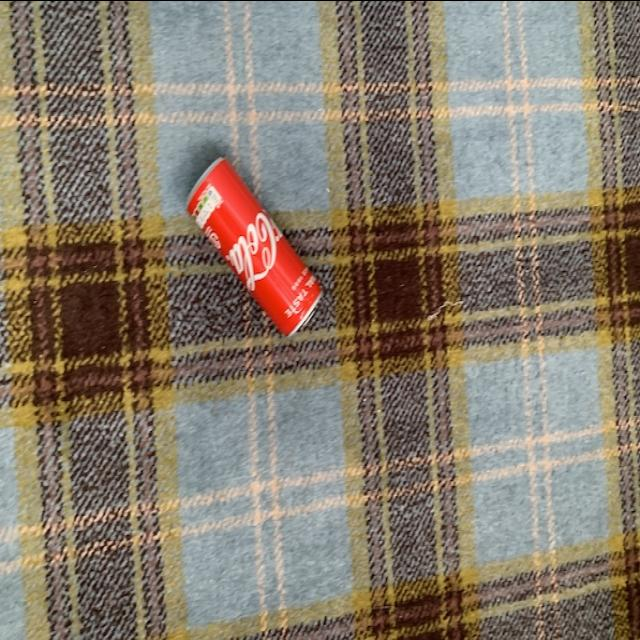Aluminum Can: (179, 154, 323, 342)
